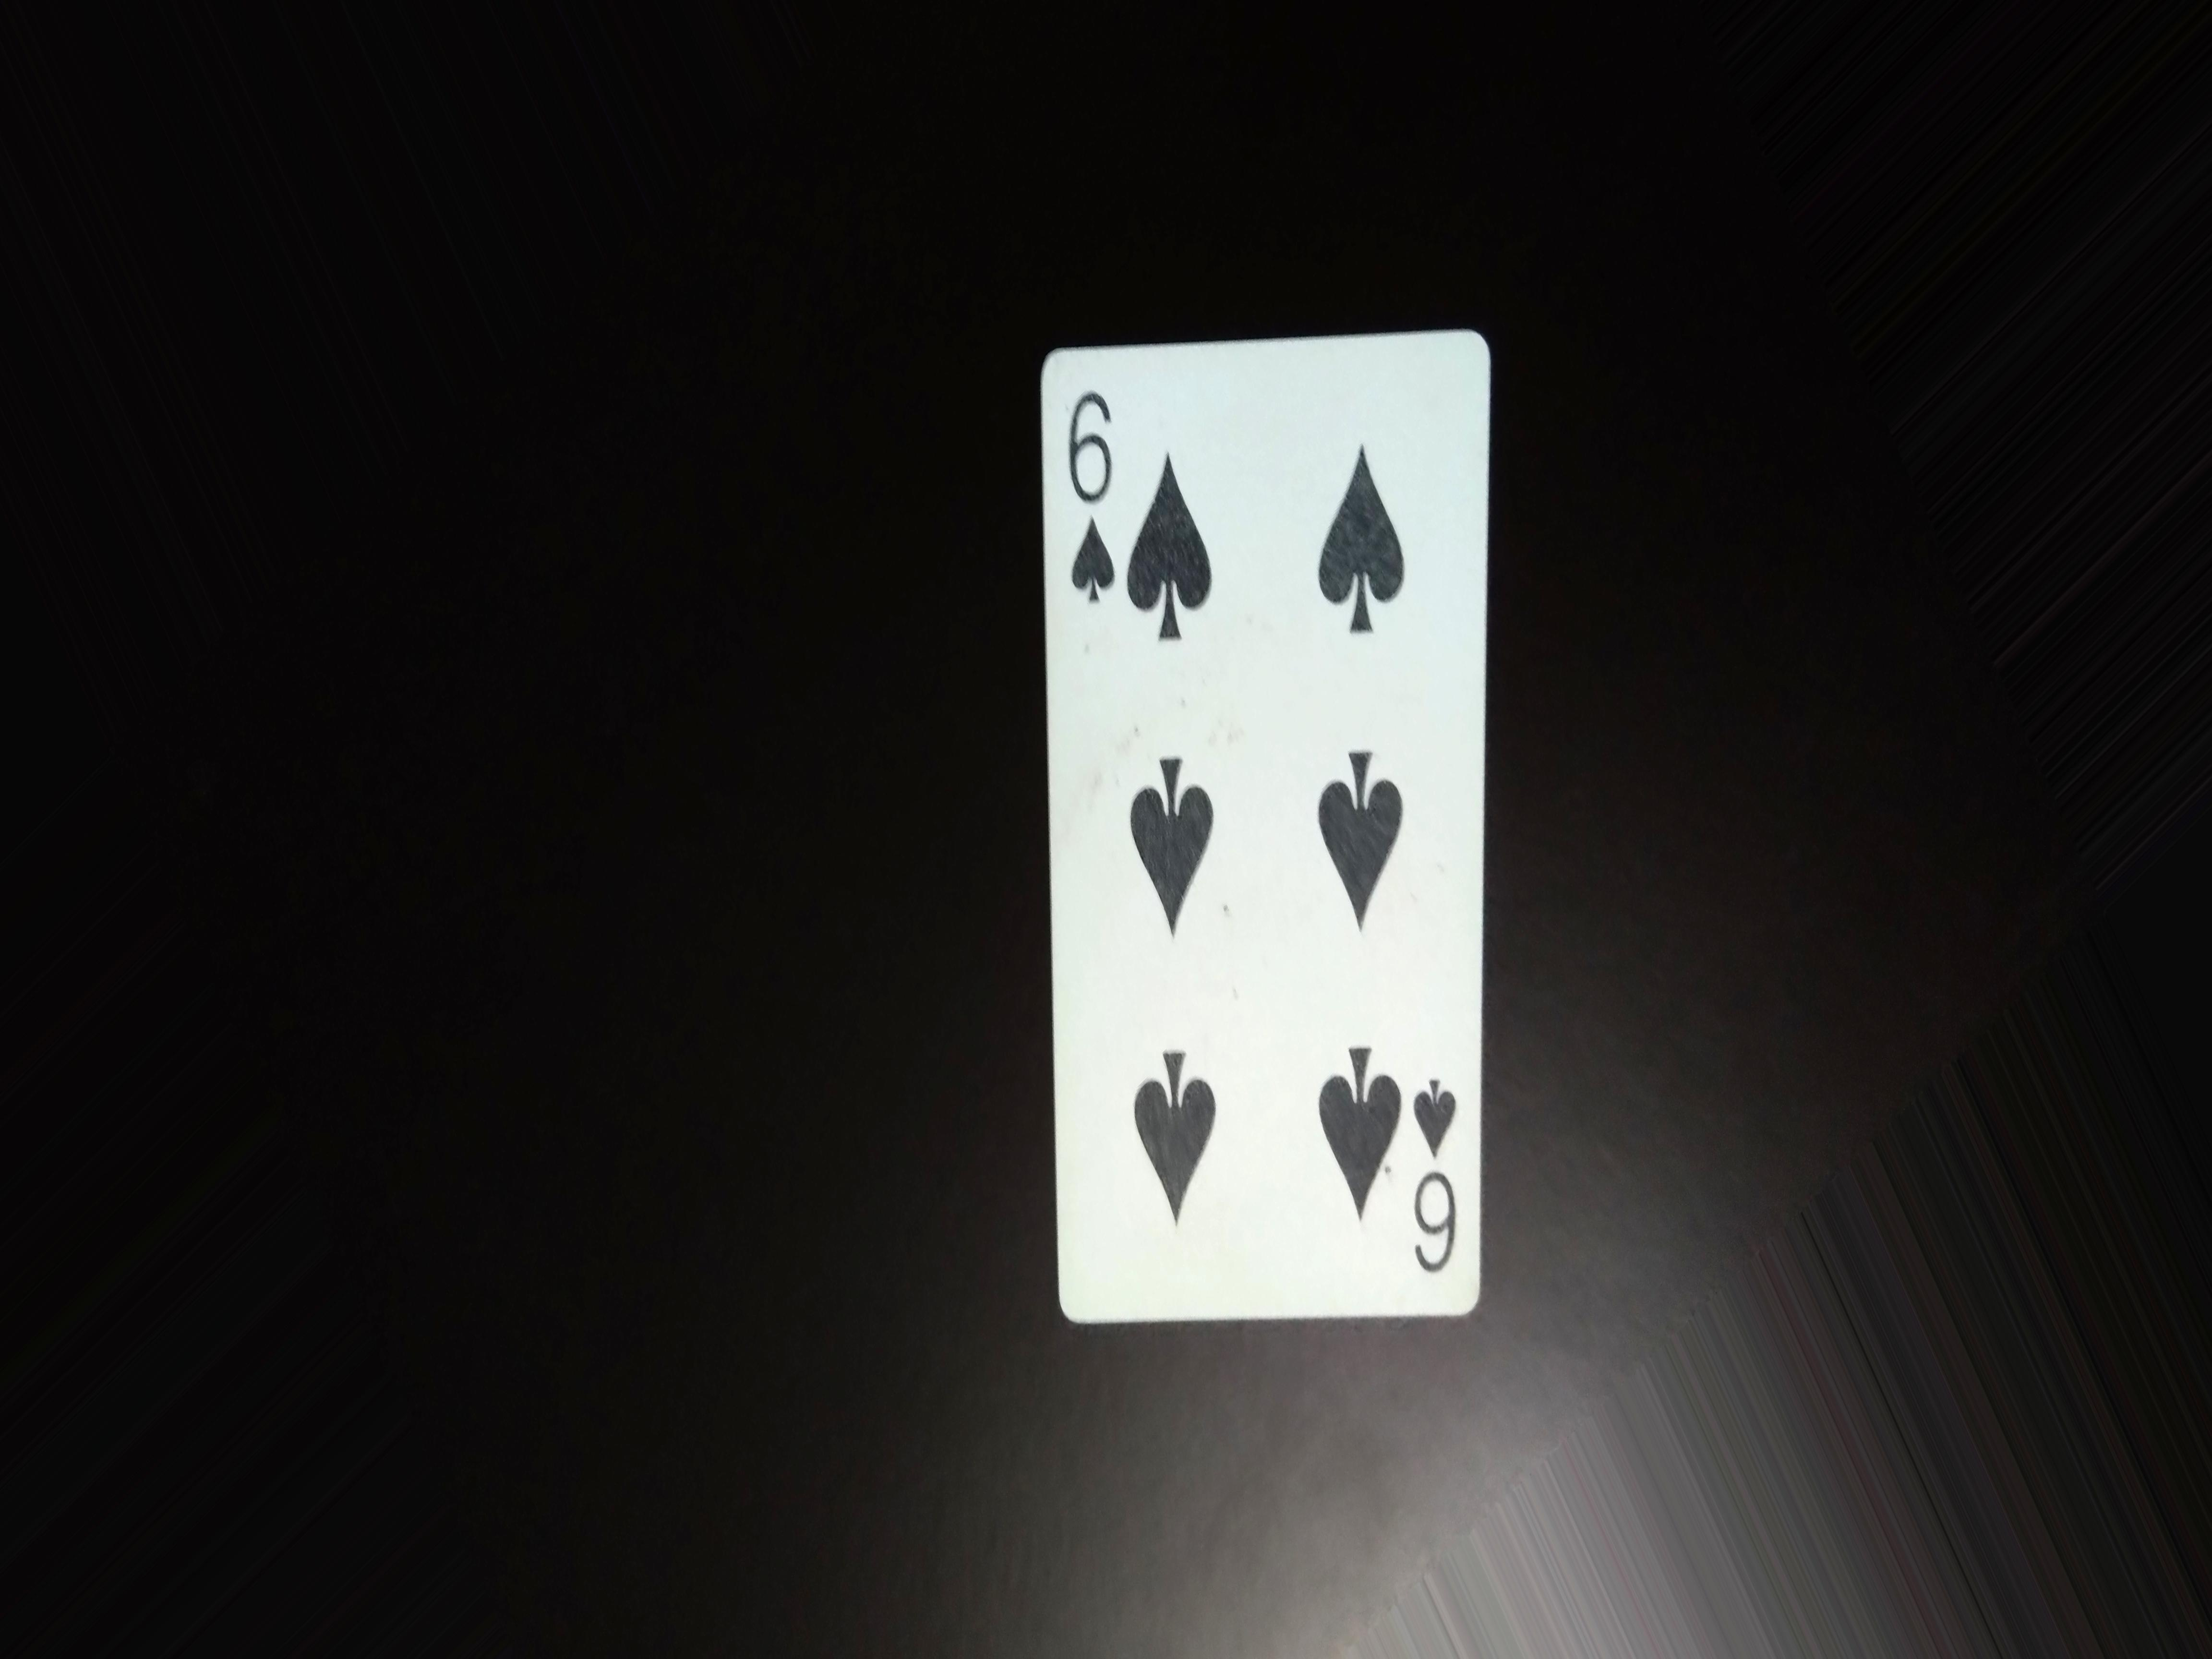6S: (1399, 1060, 1493, 1297)
